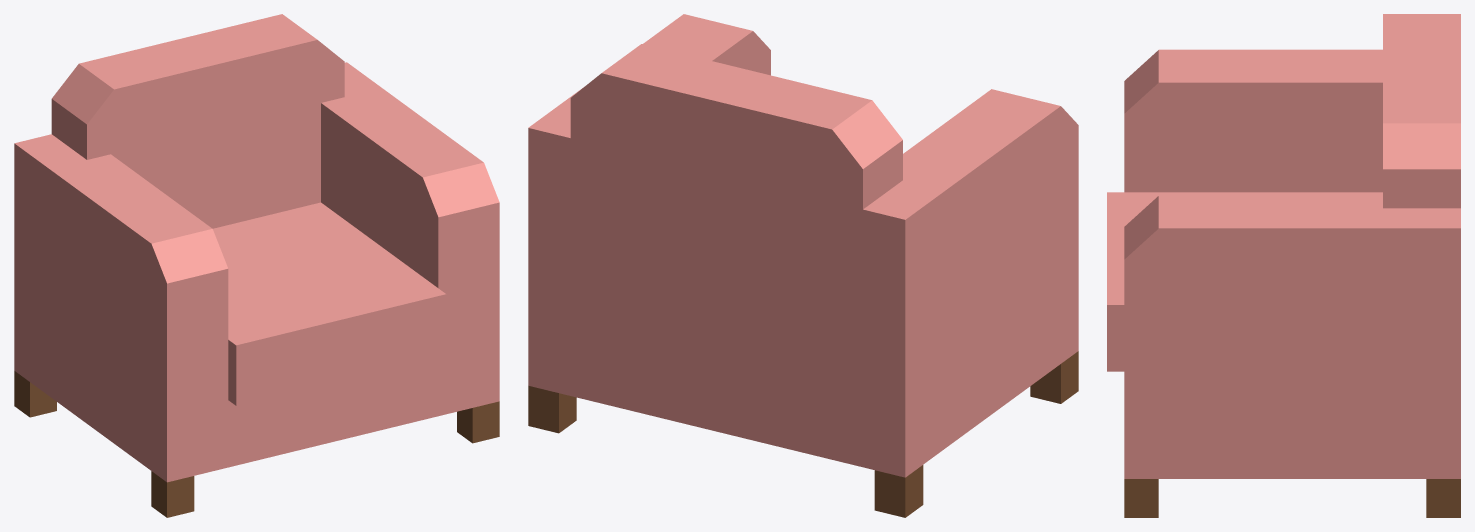
Rendered from m_armchair.glb.
The picture shows the model from 3 angles, left to right: view 1: azimuth 30°, elevation 25°; view 2: azimuth 150°, elevation 25°; view 3: azimuth 270°, elevation 25°; orthographic projection. The views are drawn at different scales.
Parts seen in each view (by area): view 1: loungeChair(Clone); view 2: loungeChair(Clone); view 3: loungeChair(Clone).
Part boxes in pixels (x1,y1,x2,y2): loungeChair(Clone): [14, 14, 499, 517]; loungeChair(Clone): [528, 14, 1078, 517]; loungeChair(Clone): [1107, 14, 1460, 517].
Bounding box in the file's own units: 0.9054 × 0.8501 × 0.7577.
